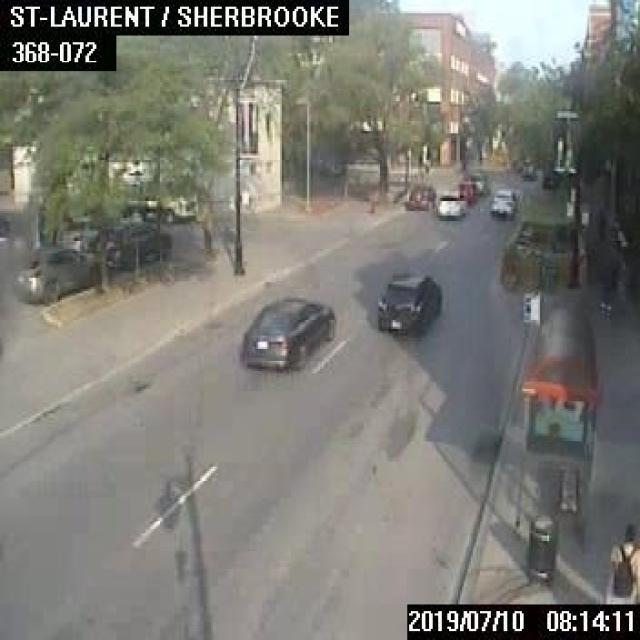pedestrian: (606, 522, 638, 598), (594, 266, 612, 318)
vehicle: (240, 293, 335, 367), (106, 156, 196, 220), (14, 248, 103, 302), (374, 272, 440, 332), (93, 220, 172, 268), (56, 215, 98, 248), (436, 189, 464, 215), (406, 181, 433, 207), (490, 189, 515, 213), (468, 170, 488, 192), (456, 180, 475, 202)
